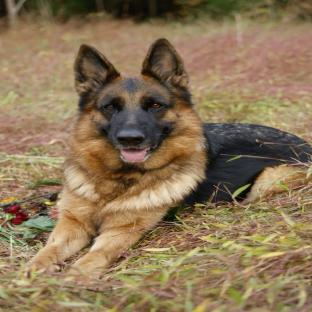Animal: (28, 38, 312, 276)
